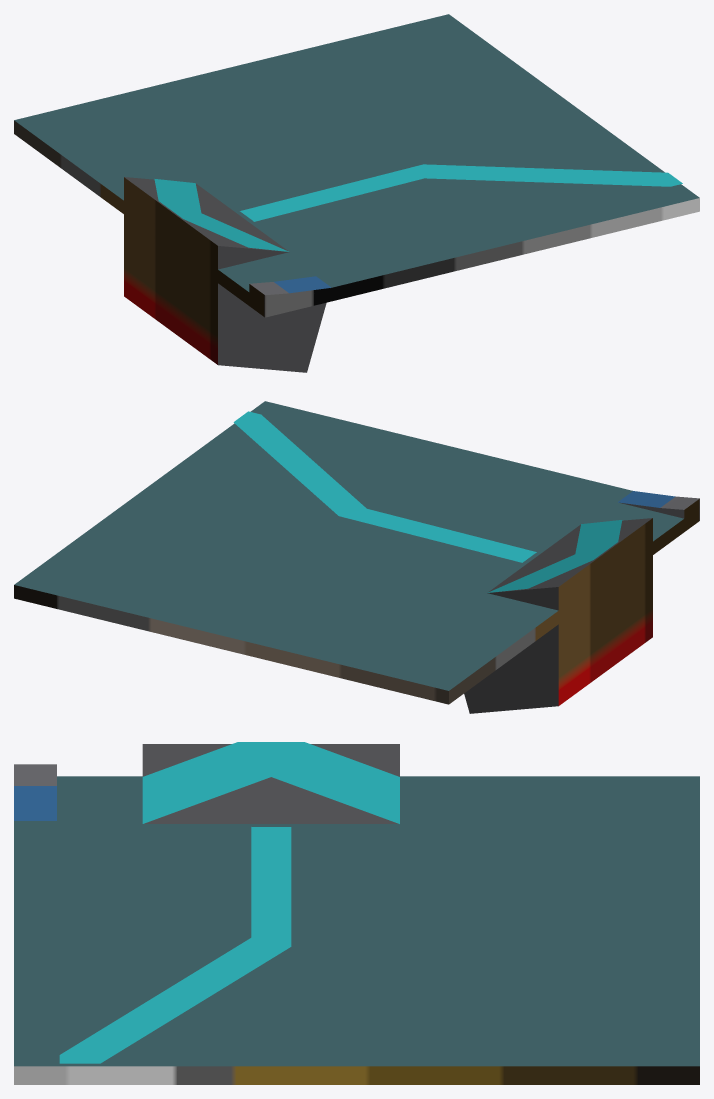
Rendered from tile_7_0_3.gltf.
3 views of the same model, one above another, from view 1: azimuth 30°, elevation 25°; view 2: azimuth 150°, elevation 25°; view 3: azimuth 270°, elevation 25° (orthographic). The views are drawn at different scales.
Parts seen in each view (by area): view 1: ground, ramp.small.03, decal.ramp.branches, decal.ramp.small.03, ramp.small.02; view 2: ground, ramp.small.03, decal.ramp.branches, decal.ramp.small.03, ramp.small.02; view 3: ground, decal.ramp.small.03, decal.ramp.branches, ramp.small.03, ramp.small.02.
Boxes of the visible parts, bbox=[...] form: ground: bbox=[14, 14, 699, 317]; ramp.small.03: bbox=[124, 177, 326, 372]; decal.ramp.branches: bbox=[240, 164, 682, 221]; decal.ramp.small.03: bbox=[154, 179, 288, 251]; ramp.small.02: bbox=[249, 276, 331, 303]; ground: bbox=[14, 401, 699, 704]; ramp.small.03: bbox=[464, 518, 652, 713]; decal.ramp.branches: bbox=[233, 411, 536, 562]; decal.ramp.small.03: bbox=[488, 520, 622, 592]; ramp.small.02: bbox=[618, 491, 699, 518]; ground: bbox=[14, 776, 699, 1084]; decal.ramp.small.03: bbox=[142, 742, 399, 823]; decal.ramp.branches: bbox=[59, 827, 291, 1063]; ramp.small.03: bbox=[142, 744, 399, 823]; ramp.small.02: bbox=[14, 764, 56, 820].
Size of what is drawn, in the model's own units: 8 by 2.64 by 8.
Materials: 2 (2 with a texture image).
